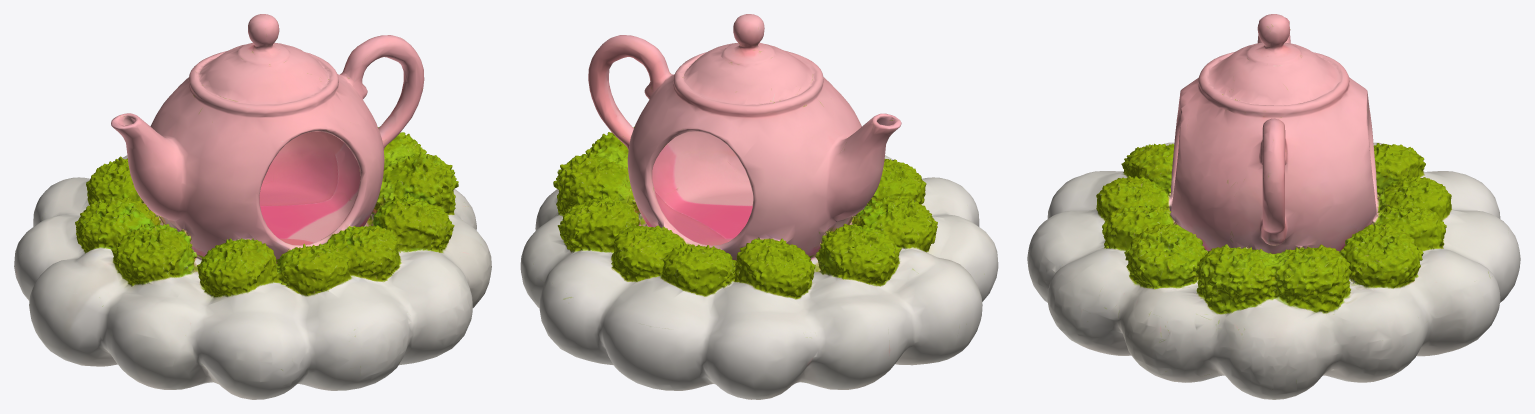
Rendered from raw.glb.
3 renders of one model, left to right at view 1: azimuth 30°, elevation 25°; view 2: azimuth 150°, elevation 25°; view 3: azimuth 270°, elevation 25°, orthographic.
Visible parts, largest first — view 1: Mesh_0; view 2: Mesh_0; view 3: Mesh_0.
Part boxes in pixels (bbox=[...]): Mesh_0: bbox=[14, 14, 491, 399]; Mesh_0: bbox=[520, 14, 998, 399]; Mesh_0: bbox=[1027, 14, 1520, 399].
Bounding box in the file's own units: 1.91 × 1.3 × 1.9.
Materials: 1 (1 with a texture image).
